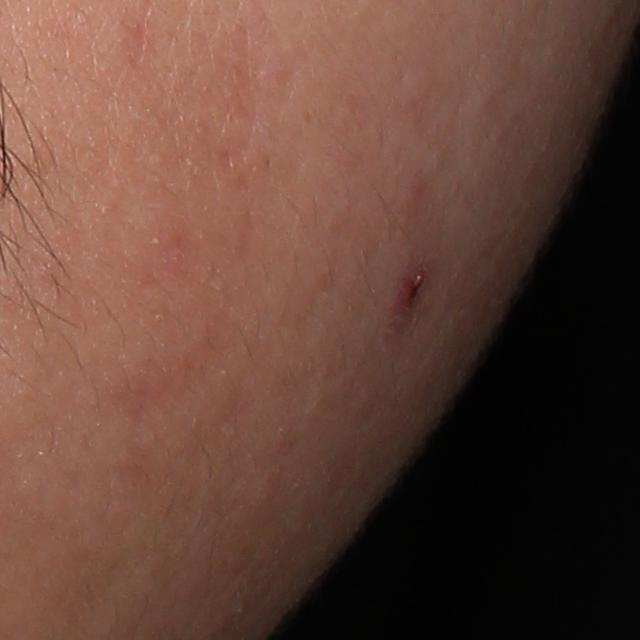papule: (379, 262, 431, 342)
